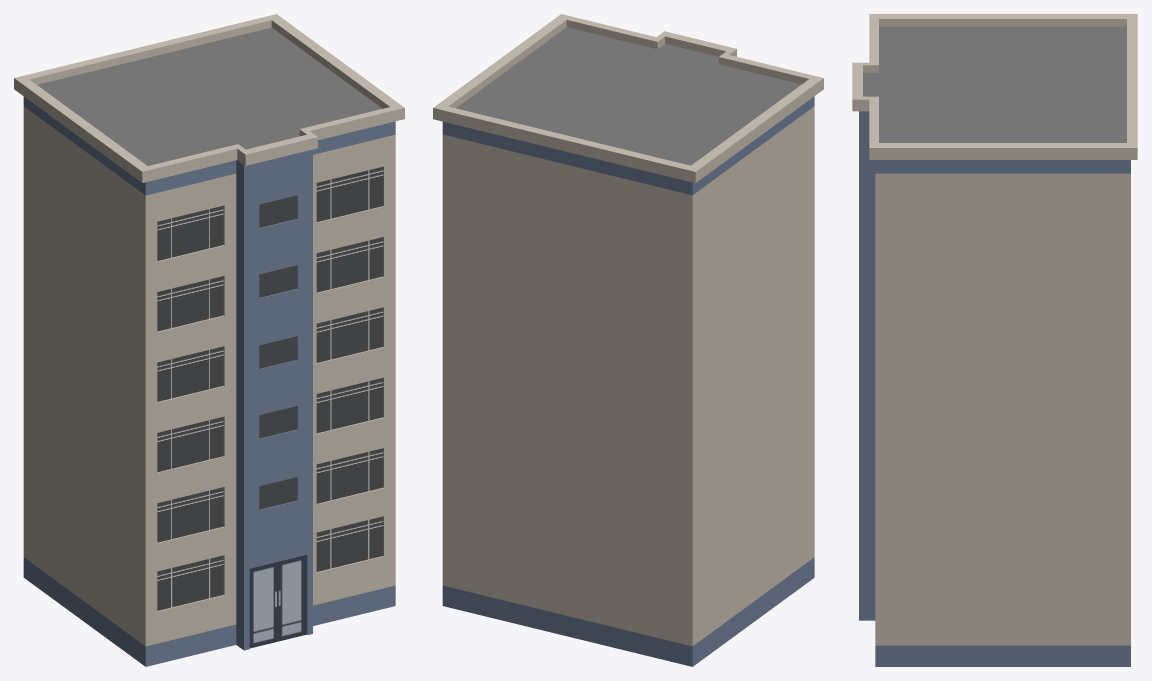
The model's file is building-sky-big-color03.glb.
3 renders of one model, left to right at view 1: azimuth 30°, elevation 25°; view 2: azimuth 150°, elevation 25°; view 3: azimuth 270°, elevation 25°, orthographic. The views are drawn at different scales.
Parts seen in each view (by area): view 1: model; view 2: model; view 3: model.
Part boxes in pixels (x1,y1,x2,y2): model: [14, 14, 404, 666]; model: [433, 14, 823, 666]; model: [852, 14, 1137, 666].
Bounding box in the file's own units: 13.66 × 24.8 × 12.3.
1 material, 1 textured.
